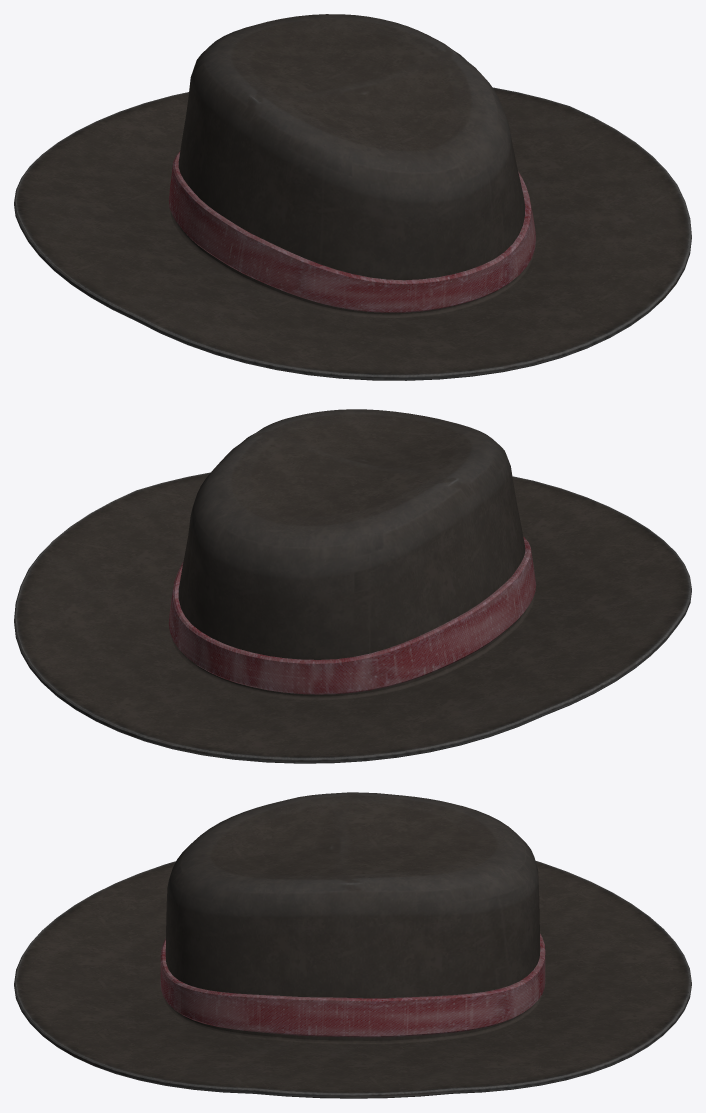
File: cowboy_hat.fbx
3 views of the same model, one above another, from view 1: azimuth 30°, elevation 25°; view 2: azimuth 150°, elevation 25°; view 3: azimuth 270°, elevation 25° (orthographic). The views are drawn at different scales.
Visible parts, largest first — view 1: Hat; view 2: Hat; view 3: Hat.
Part boxes in pixels (left/top/right/bottom): Hat: left=14, top=14, right=691, bottom=380; Hat: left=14, top=409, right=691, bottom=763; Hat: left=14, top=792, right=691, bottom=1098.
Bounding box in the file's own units: 112 × 31.66 × 124.
1 material, 1 textured.
